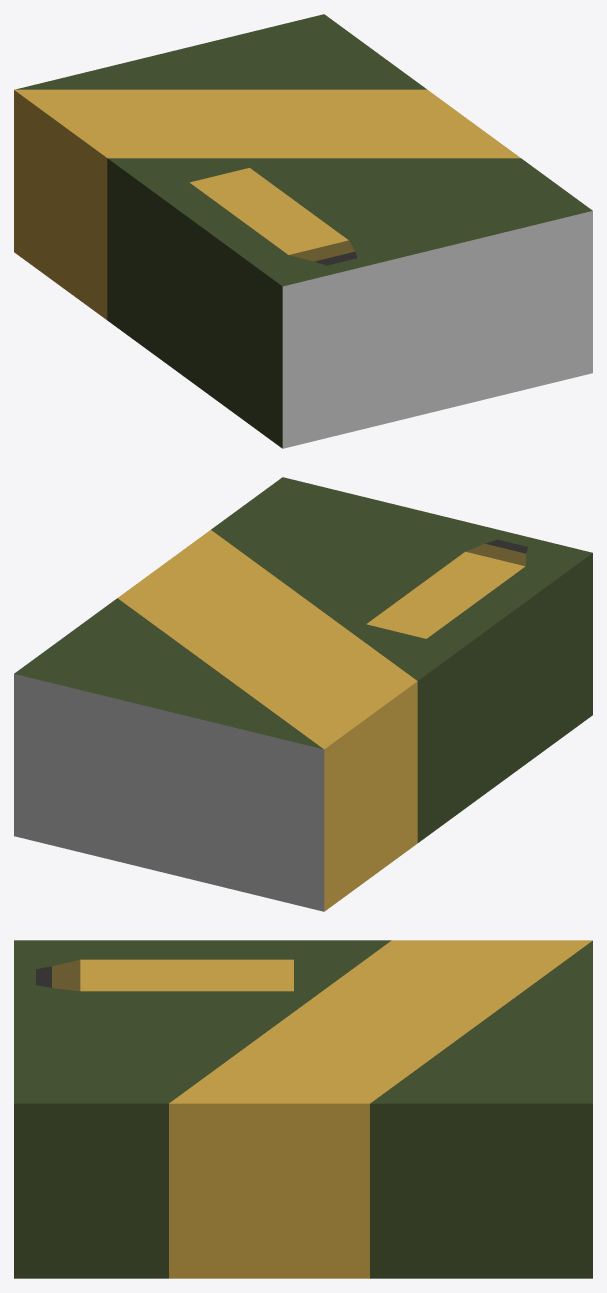
The model's file is AmmoSmall_357magnum.FBX.
3 views of the same model, one above another, from view 1: azimuth 30°, elevation 25°; view 2: azimuth 150°, elevation 25°; view 3: azimuth 270°, elevation 25° (orthographic). The views are drawn at different scales.
Parts seen in each view (by area): view 1: AmmoSmall_357magnum; view 2: AmmoSmall_357magnum; view 3: AmmoSmall_357magnum.
Boxes of the visible parts, <box> form: AmmoSmall_357magnum: <box>14,14,592,448</box>; AmmoSmall_357magnum: <box>14,477,592,911</box>; AmmoSmall_357magnum: <box>14,940,592,1278</box>.
Size of the model in its own units: 8 by 12 by 4.
